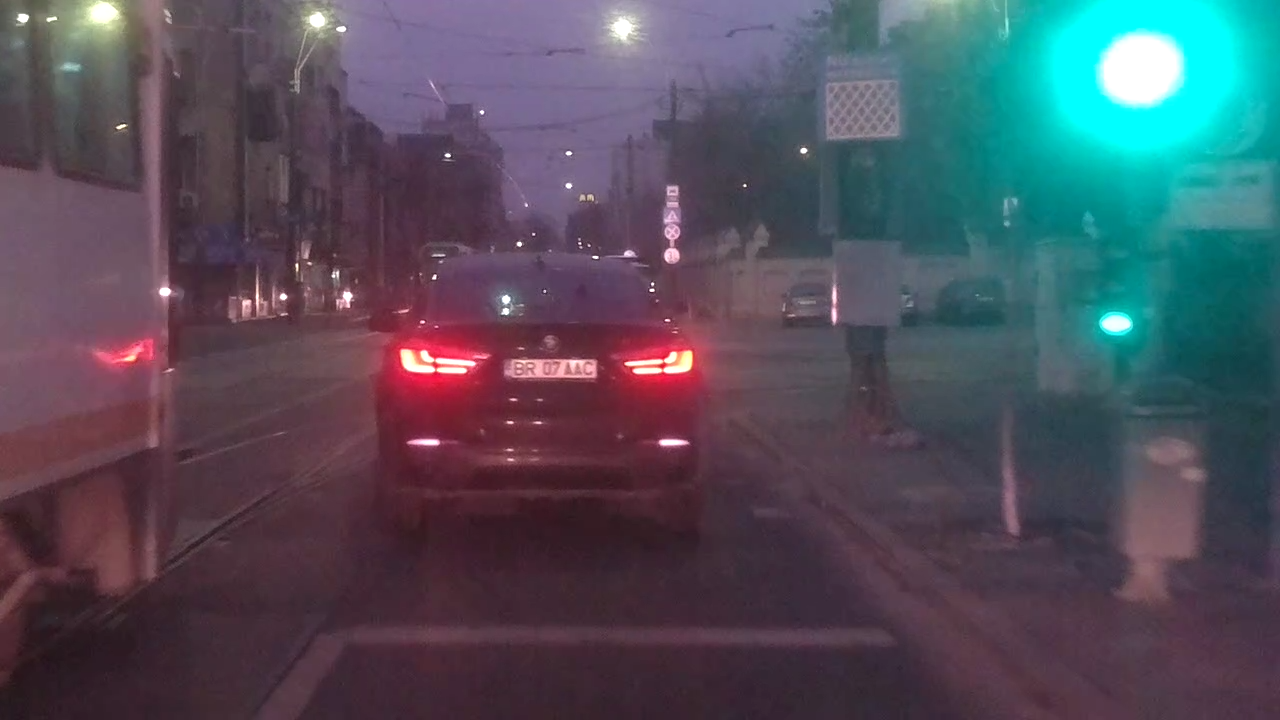license-plate: (500, 356, 601, 382)
